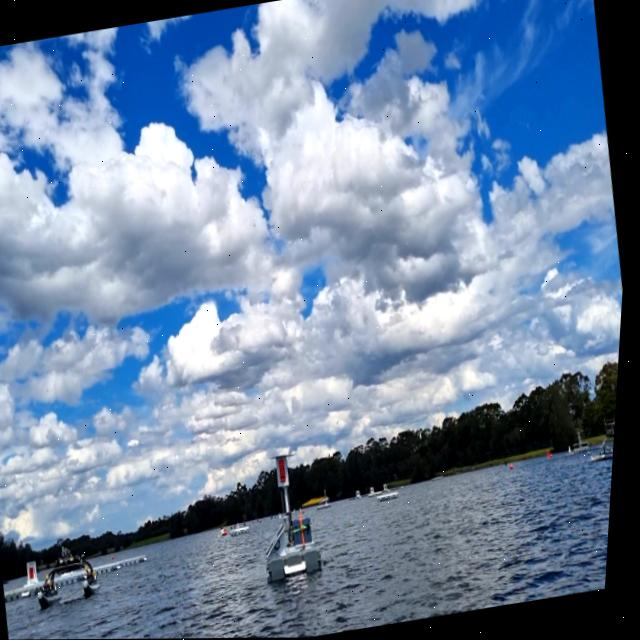led: (281, 458, 295, 485)
